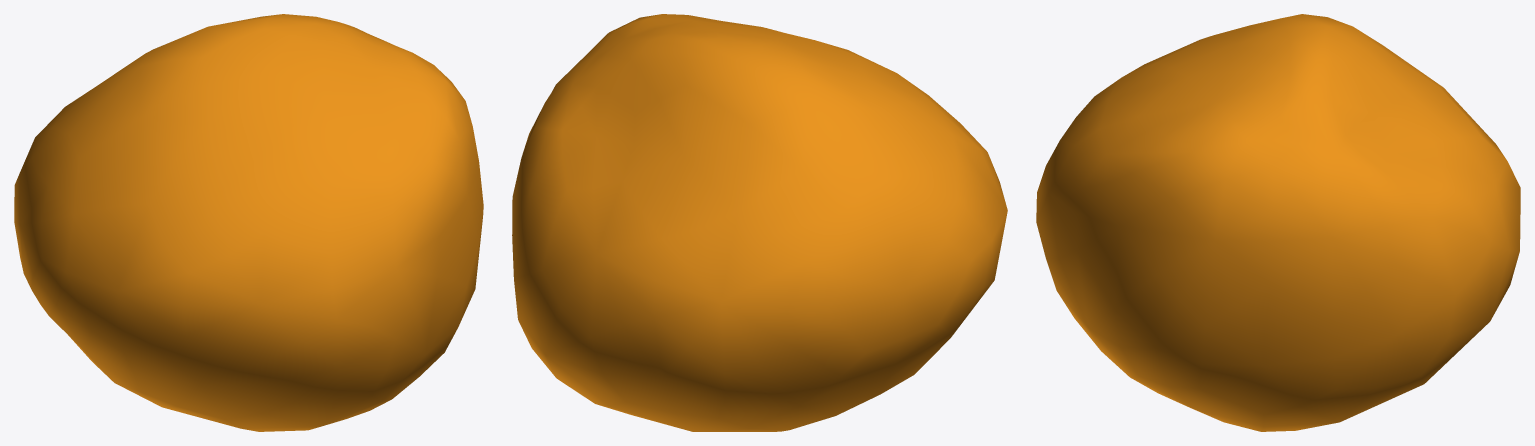
The model's file is karaage2.fbx.
3 renders of one model, left to right at view 1: azimuth 30°, elevation 25°; view 2: azimuth 150°, elevation 25°; view 3: azimuth 270°, elevation 25°, orthographic. The views are drawn at different scales.
Visible parts, largest first — view 1: Icosphere; view 2: Icosphere; view 3: Icosphere.
Boxes of the visible parts, bbox=[...] form: Icosphere: bbox=[14, 14, 483, 431]; Icosphere: bbox=[512, 14, 1007, 431]; Icosphere: bbox=[1036, 14, 1520, 431].
Bounding box in the file's own units: 308 × 271 × 323.
